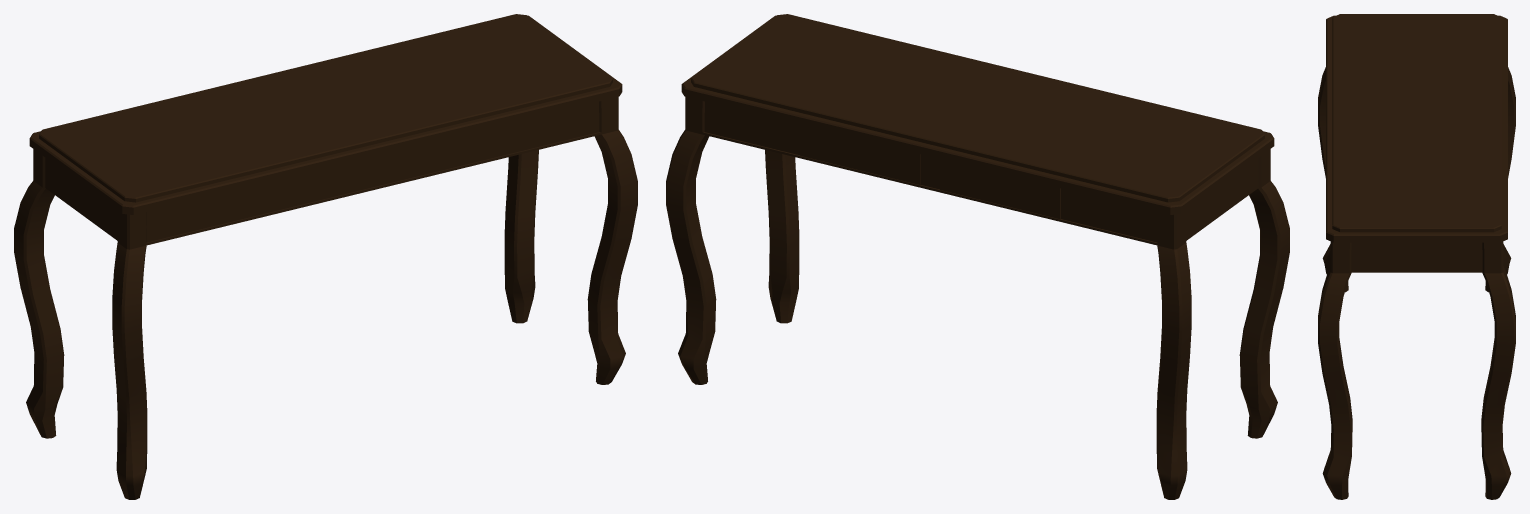
Rendered from BgMD_desk.fbx.
3 renders of one model, left to right at view 1: azimuth 30°, elevation 25°; view 2: azimuth 150°, elevation 25°; view 3: azimuth 270°, elevation 25°, orthographic. The views are drawn at different scales.
Visible parts, largest first — view 1: Bg_table_top, Bg_table_legs; view 2: Bg_table_top, Bg_table_legs; view 3: Bg_table_top, Bg_table_legs.
Part boxes in pixels (bbox=[...]): Bg_table_top: bbox=[29, 14, 622, 245]; Bg_table_legs: bbox=[14, 97, 637, 499]; Bg_table_top: bbox=[681, 14, 1274, 245]; Bg_table_legs: bbox=[666, 97, 1289, 499]; Bg_table_top: bbox=[1326, 14, 1507, 272]; Bg_table_legs: bbox=[1318, 67, 1515, 499].
Bounding box in the file's own units: 127 × 71.05 × 46.74.
